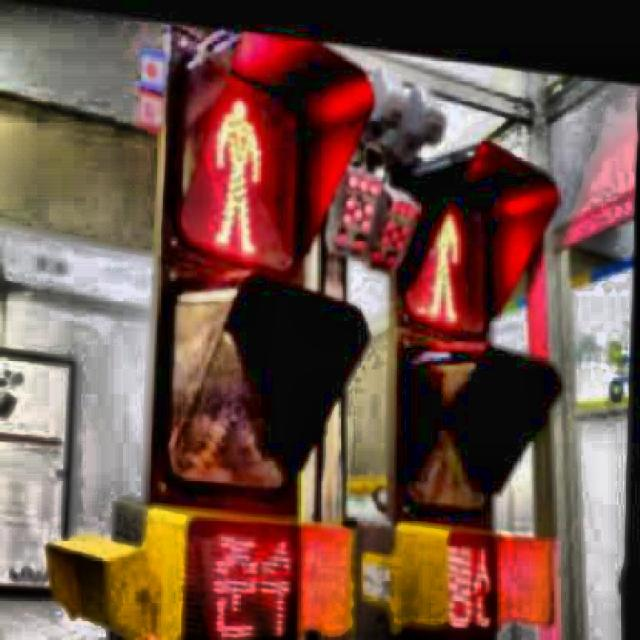semaforo pedestre: (108, 12, 369, 542), (372, 101, 578, 558)
